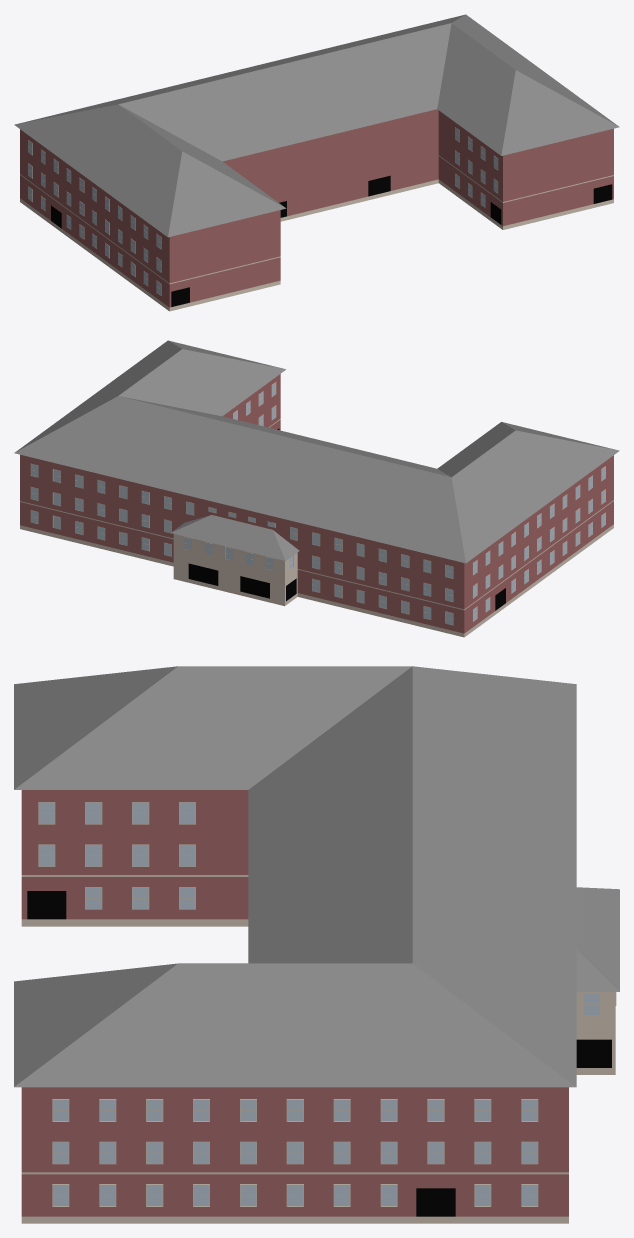
The model's file is LfC University Building.fbx.
3 renders of one model, top to bottom at view 1: azimuth 30°, elevation 25°; view 2: azimuth 150°, elevation 25°; view 3: azimuth 270°, elevation 25°, orthographic. The views are drawn at different scales.
Parts seen in each view (by area): view 1: Cube__3_, University_Building; view 2: Cube__3_, University_Building; view 3: Cube__3_, University_Building.
Boxes of the visible parts, x1,y1,x2,y2 form: Cube__3_: [14, 14, 619, 303]; University_Building: [20, 175, 613, 311]; Cube__3_: [14, 340, 619, 629]; University_Building: [20, 428, 613, 637]; Cube__3_: [14, 666, 619, 1209]; University_Building: [21, 891, 615, 1223].
Bounding box in the file's own units: 6101 × 1538 × 3877.
